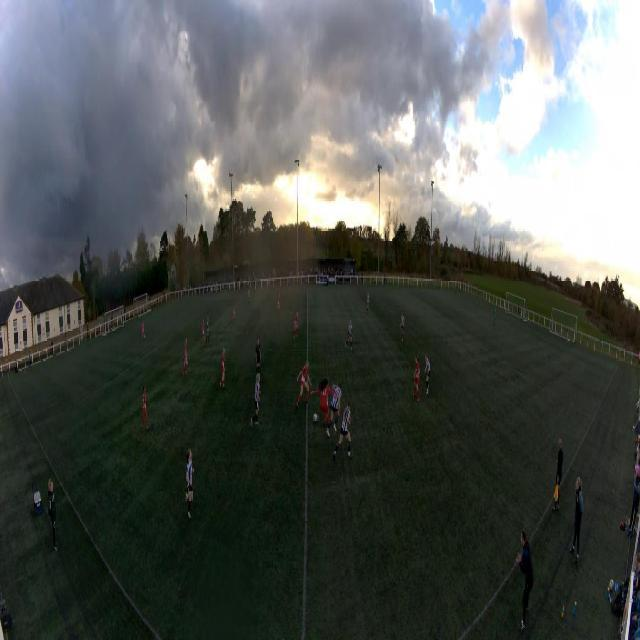ball: (313, 414, 317, 423)
player: (334, 401, 352, 462), (181, 445, 195, 523), (327, 380, 343, 436), (295, 361, 312, 408), (316, 375, 329, 433), (251, 374, 262, 424), (141, 385, 148, 433), (219, 348, 226, 392), (425, 353, 432, 395), (413, 357, 419, 401), (255, 336, 261, 375), (344, 320, 352, 349), (183, 340, 187, 377), (201, 319, 206, 348), (294, 311, 299, 340), (400, 311, 404, 343), (365, 292, 370, 314), (231, 303, 236, 324), (276, 295, 280, 315), (206, 318, 209, 342), (142, 320, 145, 340), (493, 308, 496, 326), (248, 288, 250, 305)
